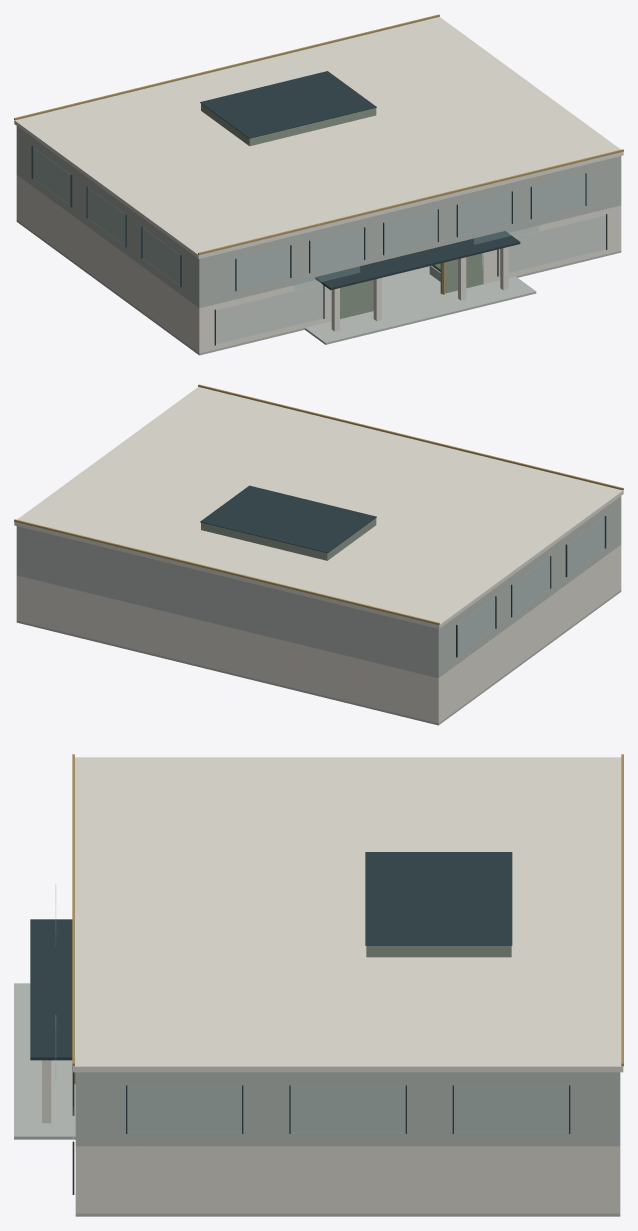
The model's file is clubhouse.glb.
The picture shows the model from 3 angles, top to bottom: view 1: azimuth 30°, elevation 25°; view 2: azimuth 150°, elevation 25°; view 3: azimuth 270°, elevation 25°; orthographic projection. The views are drawn at different scales.
Parts seen in each view (by area): view 1: GC-NK-CLUBHOUSE-white, GC-NK-CLUBHOUSE-stone, GC-NK-CLUBHOUSE-glass, GC-NK-CLUBHOUSE-dark, GC-NK-CLUBHOUSE-sage, GC-NK-CLUBHOUSE-gold; view 2: GC-NK-CLUBHOUSE-white, GC-NK-CLUBHOUSE-stone, GC-NK-CLUBHOUSE-dark, GC-NK-CLUBHOUSE-glass, GC-NK-CLUBHOUSE-gold, GC-NK-CLUBHOUSE-sage; view 3: GC-NK-CLUBHOUSE-white, GC-NK-CLUBHOUSE-stone, GC-NK-CLUBHOUSE-dark, GC-NK-CLUBHOUSE-glass, GC-NK-CLUBHOUSE-gold, GC-NK-CLUBHOUSE-sage.
Part boxes in pixels (box(x1,y1,x2,y2)): GC-NK-CLUBHOUSE-white: box(14, 17, 623, 353); GC-NK-CLUBHOUSE-stone: box(16, 126, 621, 355); GC-NK-CLUBHOUSE-glass: box(33, 147, 605, 344); GC-NK-CLUBHOUSE-dark: box(31, 71, 607, 345); GC-NK-CLUBHOUSE-sage: box(201, 103, 483, 318); GC-NK-CLUBHOUSE-gold: box(14, 14, 623, 294); GC-NK-CLUBHOUSE-white: box(14, 387, 623, 723); GC-NK-CLUBHOUSE-stone: box(16, 496, 621, 725); GC-NK-CLUBHOUSE-dark: box(200, 485, 606, 657); GC-NK-CLUBHOUSE-glass: box(458, 517, 604, 655); GC-NK-CLUBHOUSE-gold: box(14, 384, 623, 624); GC-NK-CLUBHOUSE-sage: box(201, 518, 376, 560); GC-NK-CLUBHOUSE-white: box(42, 757, 623, 1213); GC-NK-CLUBHOUSE-stone: box(14, 983, 620, 1216); GC-NK-CLUBHOUSE-dark: box(30, 852, 570, 1194); GC-NK-CLUBHOUSE-glass: box(55, 884, 568, 1141); GC-NK-CLUBHOUSE-gold: box(72, 754, 623, 1084); GC-NK-CLUBHOUSE-sage: box(366, 945, 511, 957).
Bounding box in the file's own units: 40.34 × 10 × 33.59.
